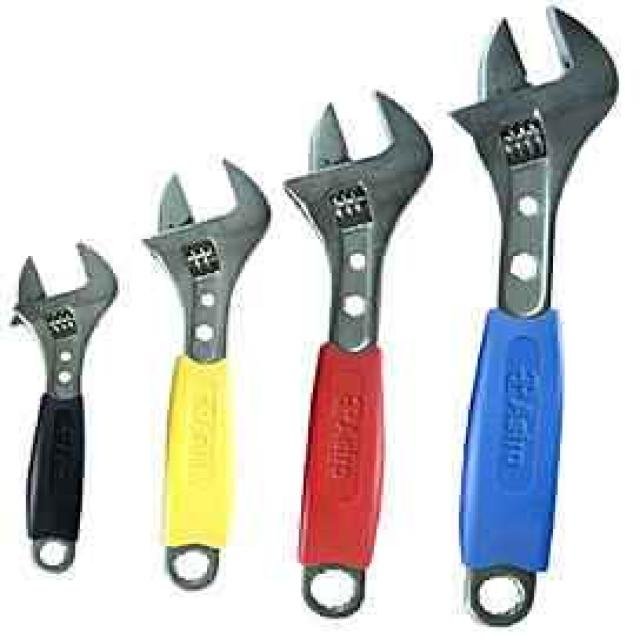wrench: (448, 7, 631, 616), (124, 137, 294, 640), (284, 86, 441, 628), (0, 223, 128, 595)
